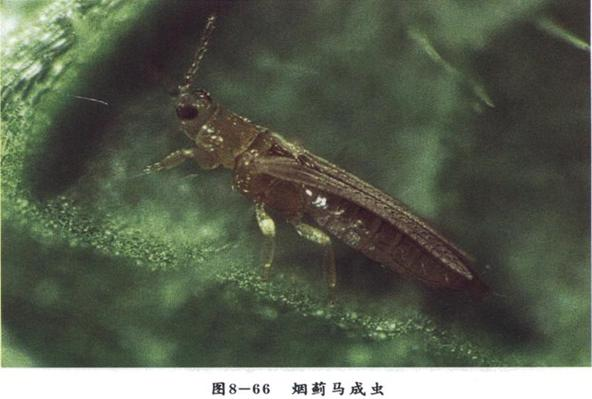Thripidae: (114, 14, 494, 308)
